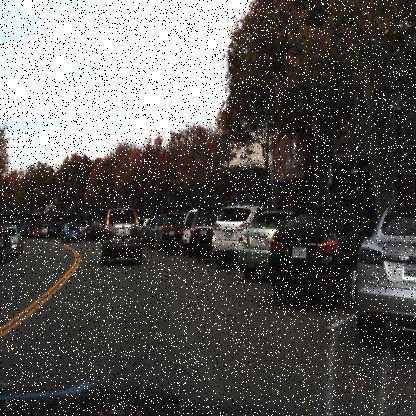car: (264, 198, 357, 310), (354, 200, 416, 344), (235, 204, 293, 282), (98, 202, 147, 264), (210, 199, 250, 271), (189, 203, 222, 263), (158, 206, 183, 259), (180, 204, 196, 257), (4, 221, 24, 262), (59, 220, 83, 247)
